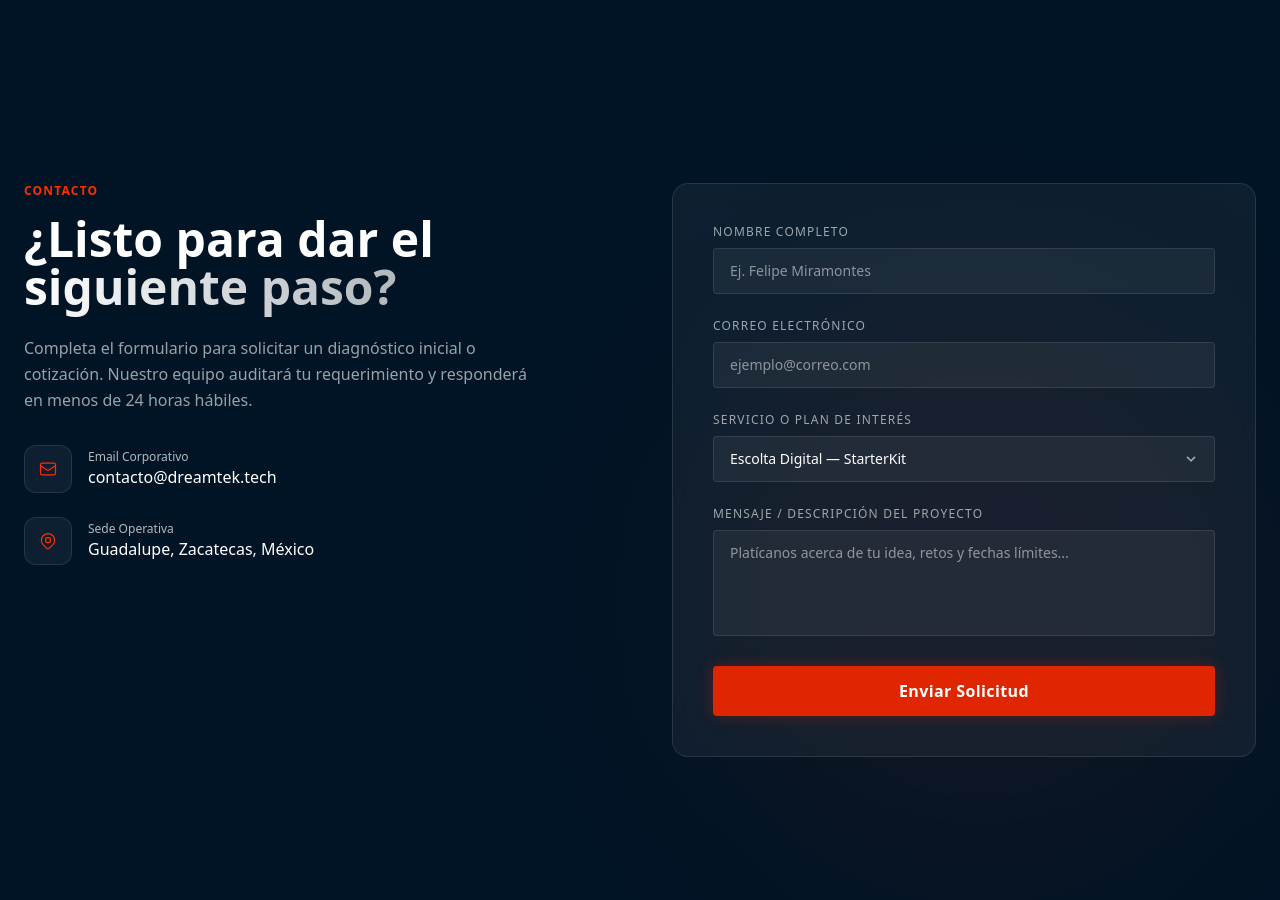
Test: Contact Component › debe mostrar un mensaje de error si el envío del código inicial falla
Step 1. Type "Felipe" into the field with placeholder "Ej. Felipe Miramontes" → (964, 271), box 713,248 -> 1215,294
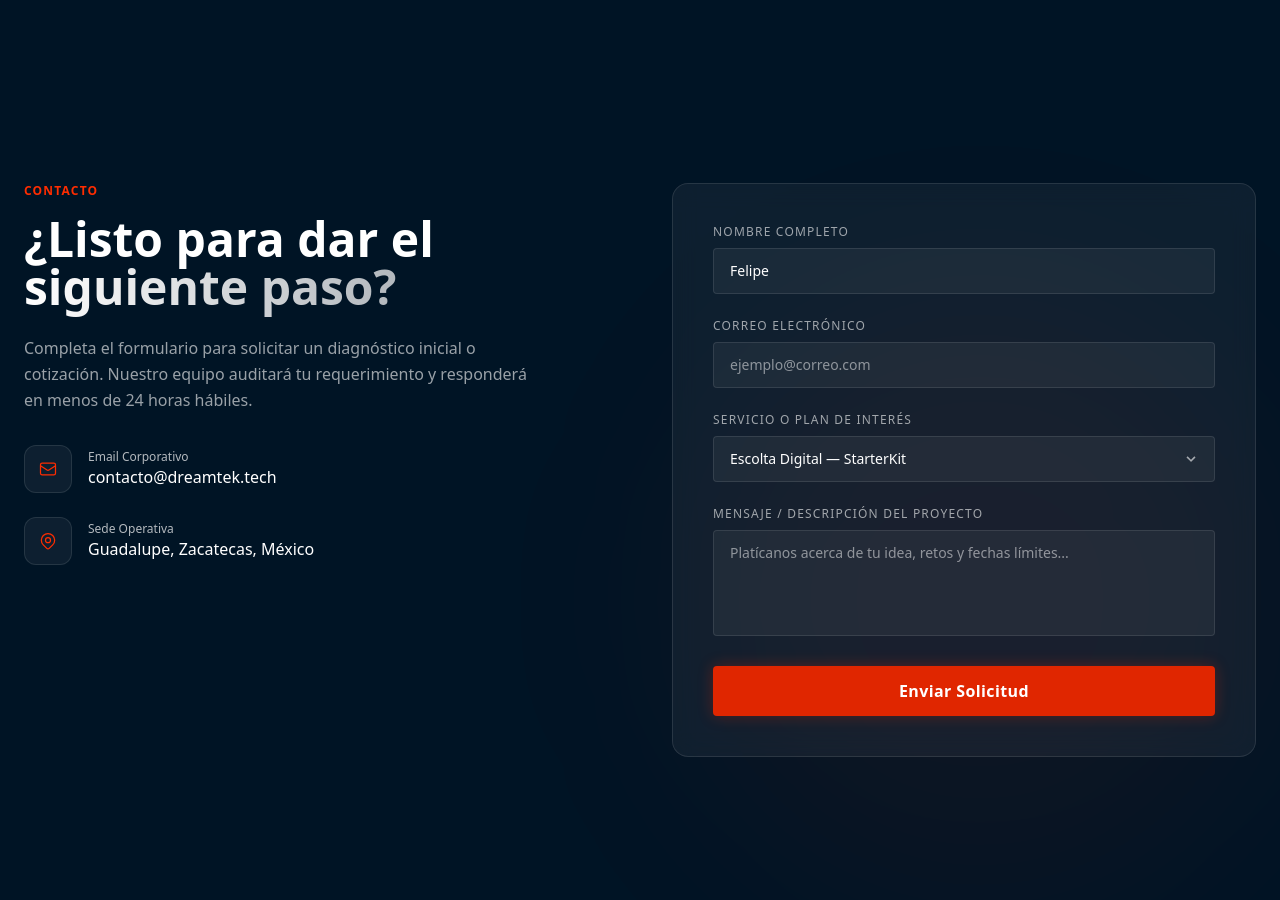
Step 2. Type "felipe@test.com" into the field with placeholder "ejemplo@correo.com" → (964, 365), box 713,342 -> 1215,388
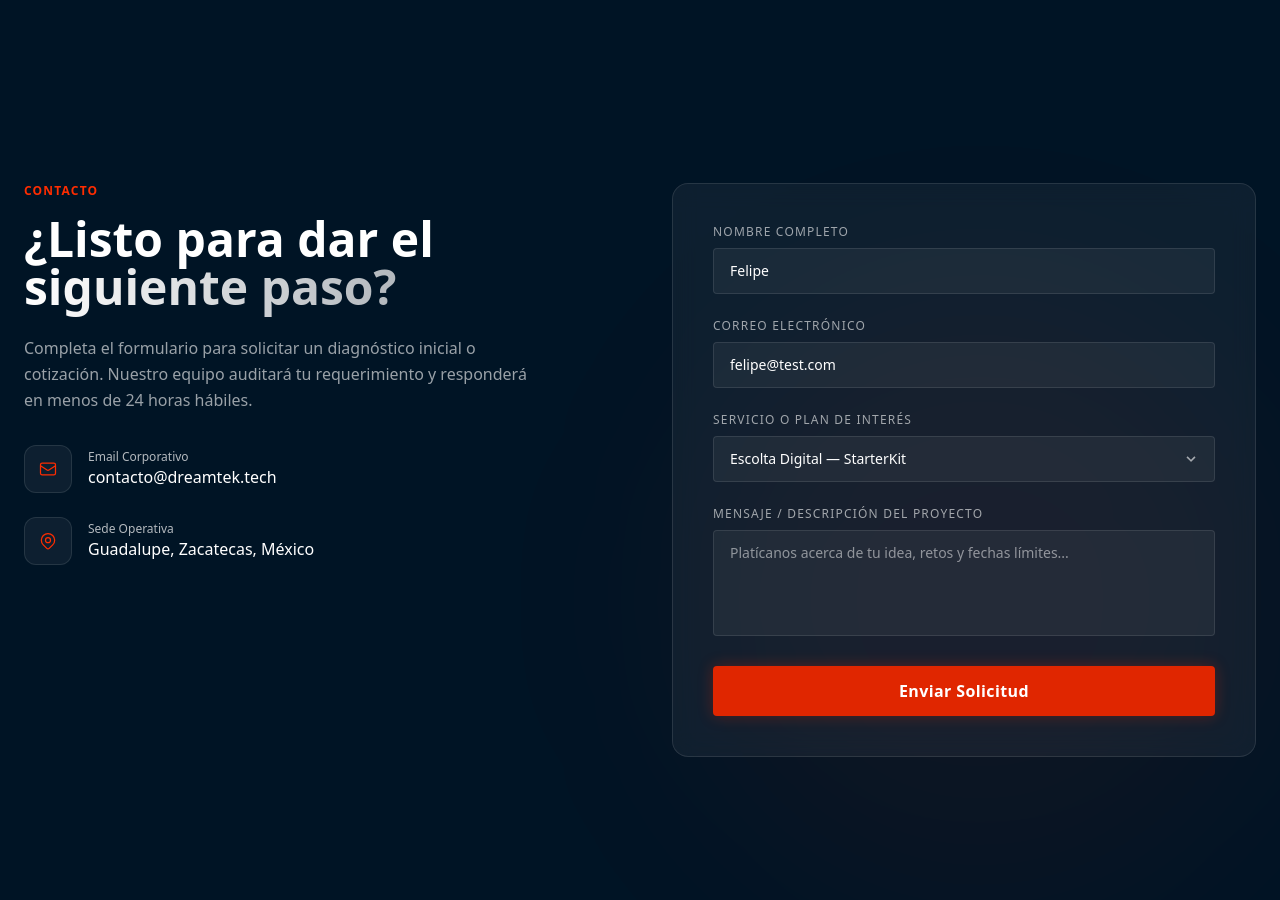
Step 3. Type "Hola" into the text box with placeholder "Platícanos acerca de tu idea, retos y fechas límites..." → (964, 583), box 713,530 -> 1215,636
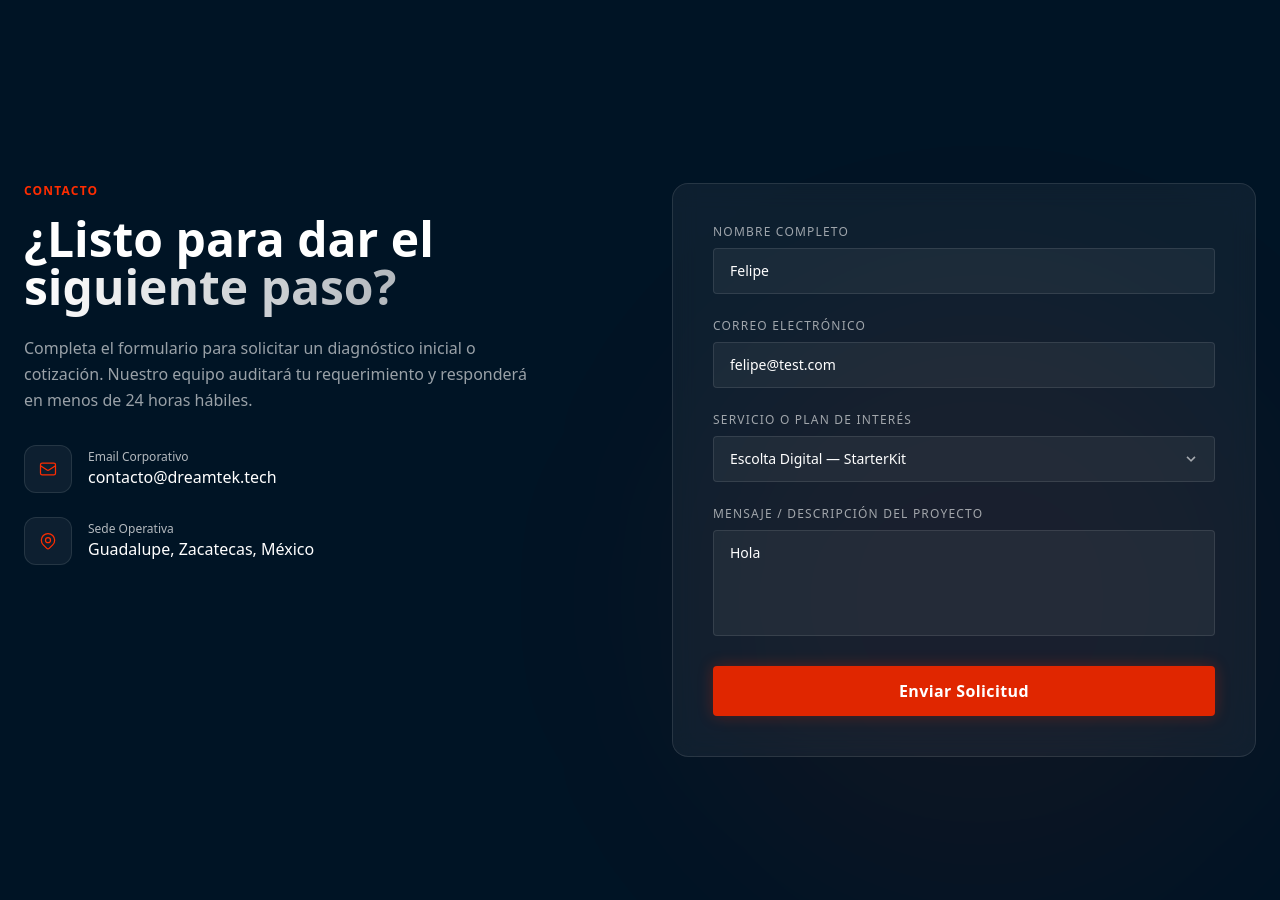
Step 4. Click the button "Enviar Solicitud" → (964, 691), box 713,666 -> 1215,716
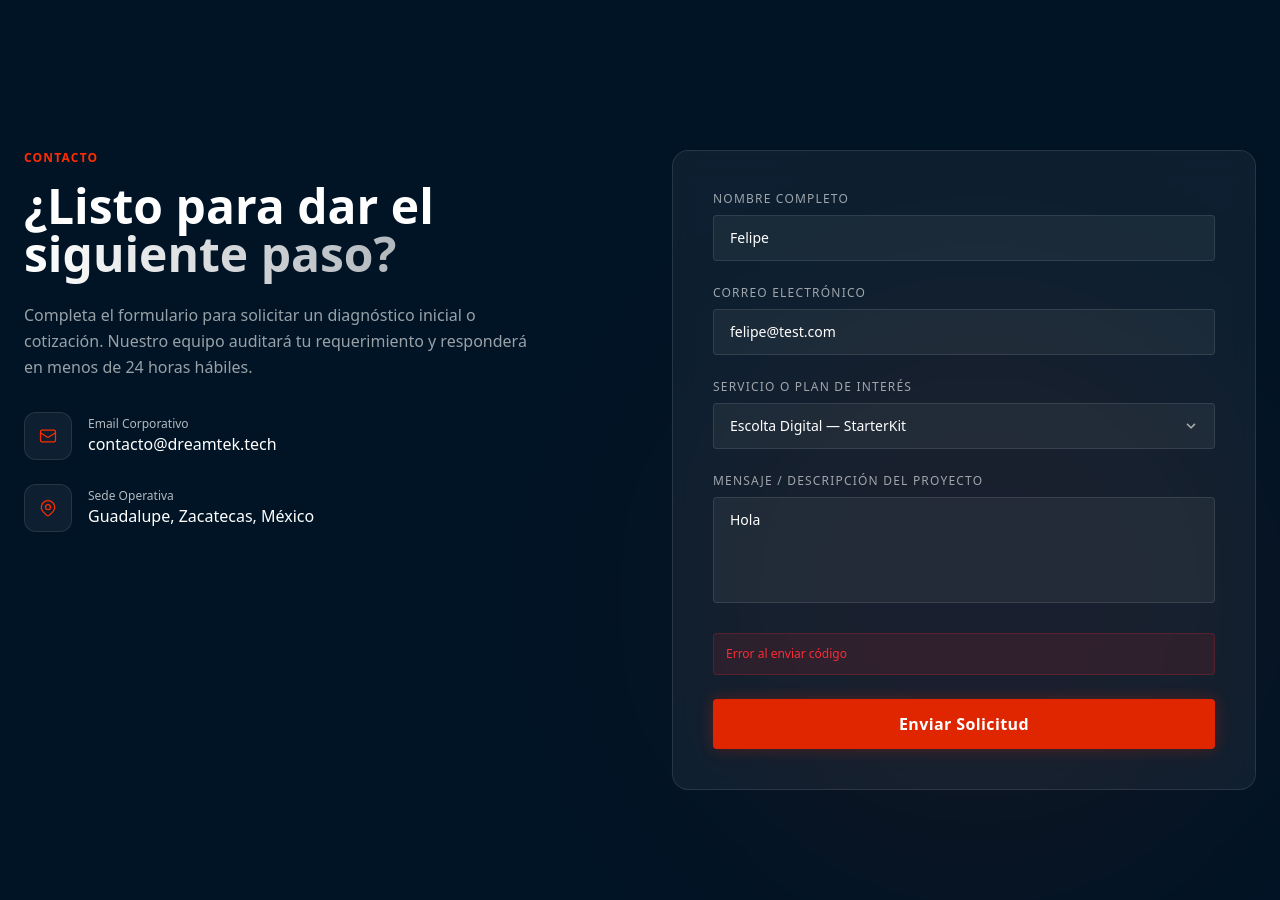
Check: the text "Error al enviar código" is shown, box 713,633 -> 1215,675
